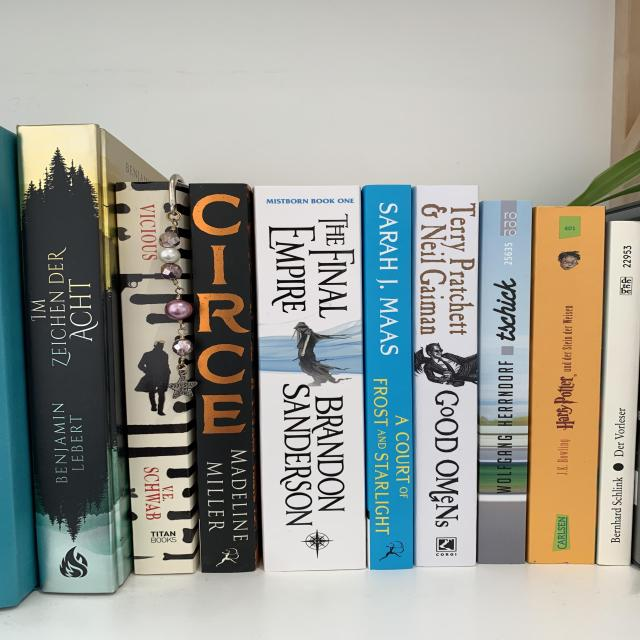book: (18, 124, 114, 592), (256, 184, 366, 571), (115, 183, 193, 575), (527, 206, 606, 563), (187, 183, 256, 573), (415, 187, 478, 567), (478, 201, 532, 563), (366, 186, 413, 569), (596, 221, 640, 567)
